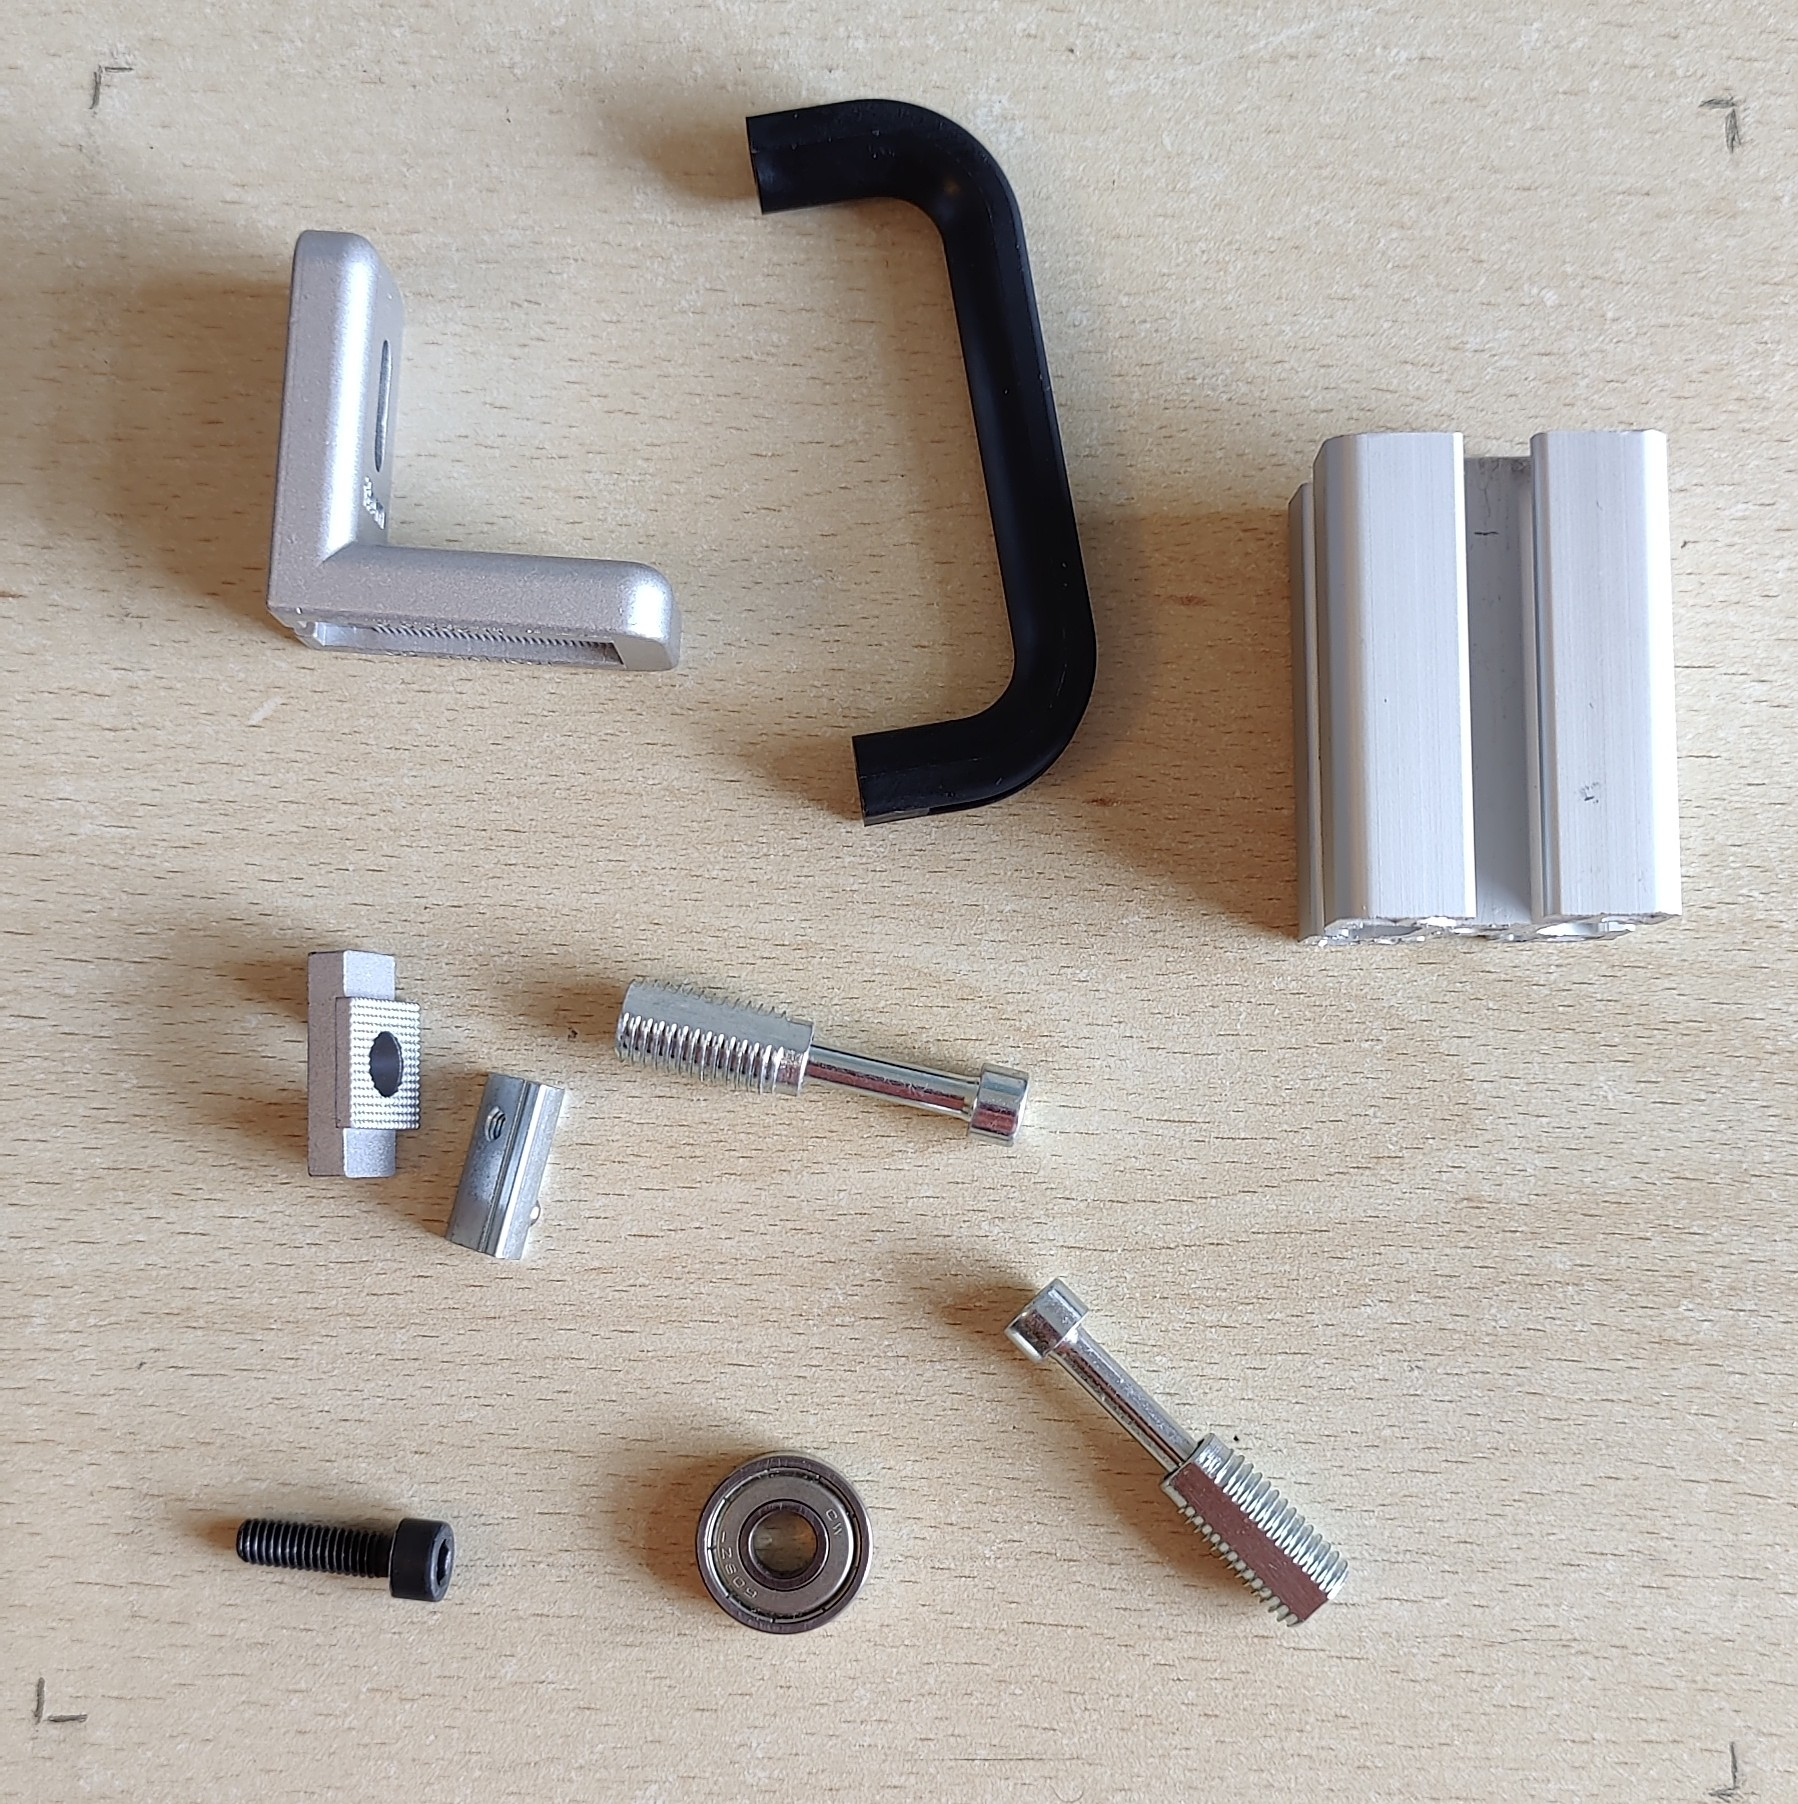Aluminium Extension: (1284, 426, 1684, 950)
Ball Bearing: (692, 1448, 878, 1638)
Multiwinkel: (262, 229, 685, 673)
Pull Handle: (743, 95, 1100, 831)
Shoulder Socket Head Cap Screw: (999, 1277, 1350, 1630), (609, 978, 1032, 1152)
Socket Head Cap Screw: (234, 1513, 456, 1603)
T Nut Square: (303, 945, 426, 1182)
T Spring Nut: (443, 1068, 570, 1262)
